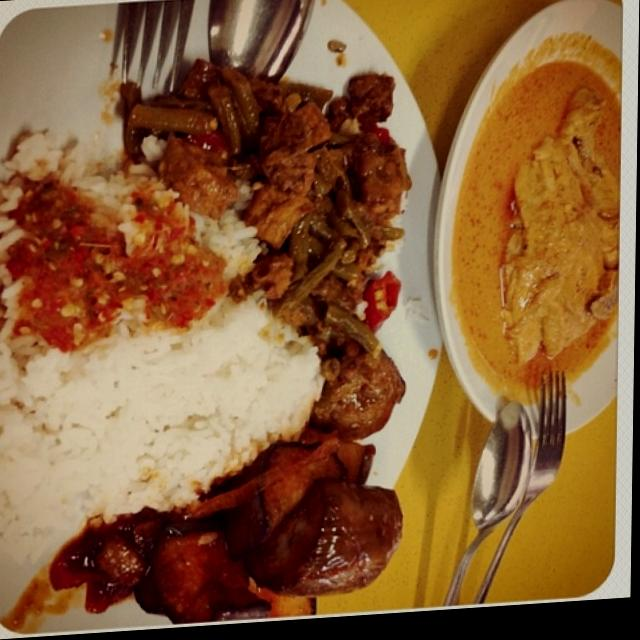米饭主食: (0, 0, 498, 629)
